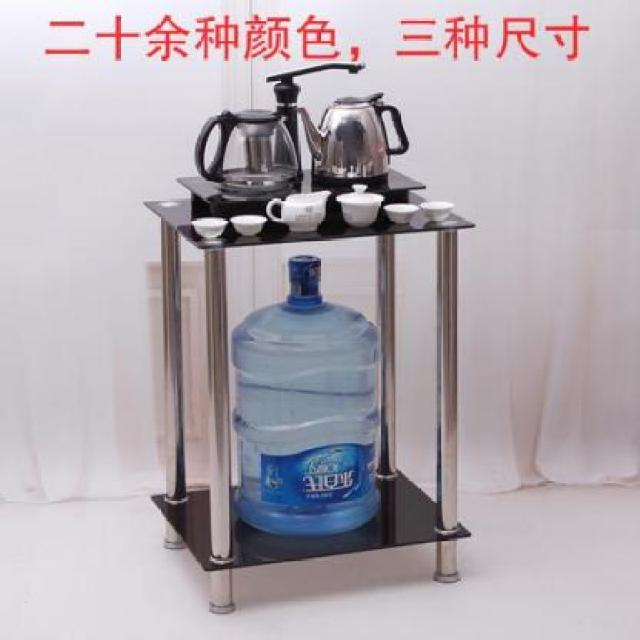coolerbottle: (226, 254, 388, 538)
